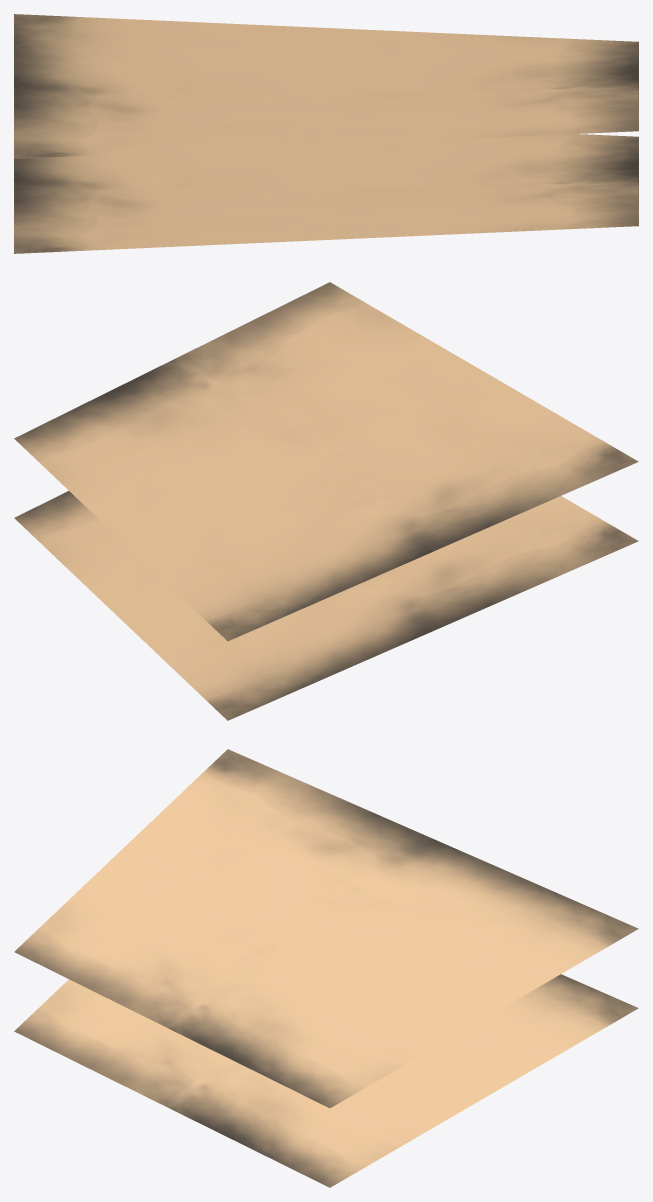
Rendered from CourseSummer_CurveFloor_1_3.fbx.
3 renders of one model, top to bottom at view 1: azimuth 30°, elevation 25°; view 2: azimuth 150°, elevation 25°; view 3: azimuth 270°, elevation 25°, orthographic. The views are drawn at different scales.
Parts seen in each view (by area): view 1: polySurface335; view 2: polySurface335; view 3: polySurface335.
Part boxes in pixels (left/top/right/bottom): polySurface335: left=14, top=14, right=638, bottom=253; polySurface335: left=14, top=282, right=638, bottom=720; polySurface335: left=14, top=749, right=638, bottom=1187.
Size of the model in its own units: 7.56 by 2 by 7.13.
1 material, 1 textured.
